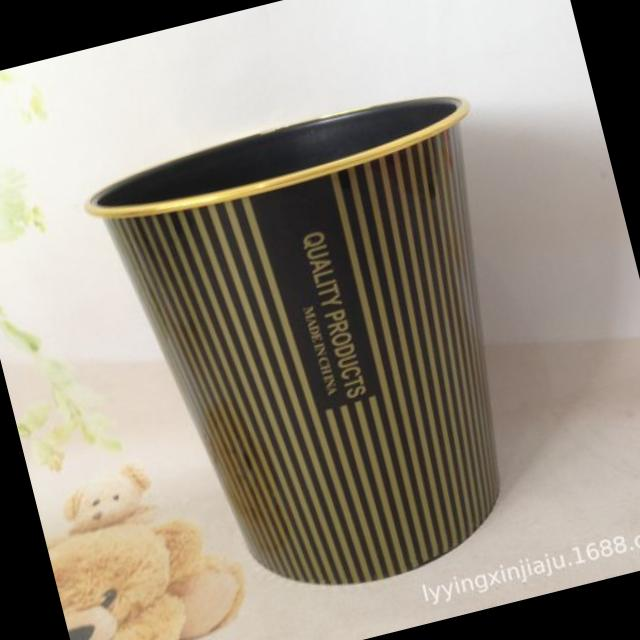dustbin: (65, 72, 593, 639)
